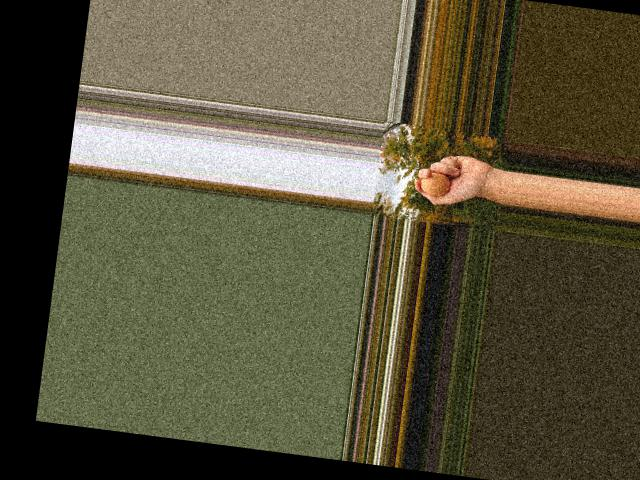egg: (419, 169, 451, 197)
